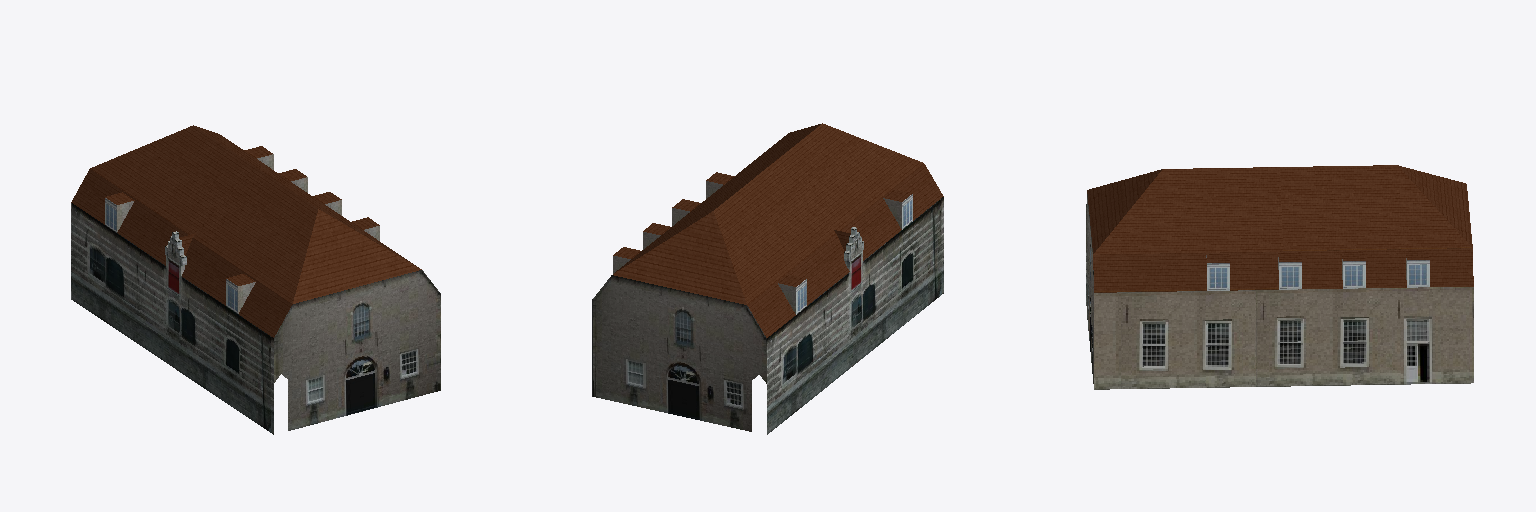
The picture shows the model from 3 angles: view 1: azimuth 30°, elevation 25°; view 2: azimuth 150°, elevation 25°; view 3: azimuth 270°, elevation 25°; orthographic projection.
Visible parts, largest first — view 1: polySurface3; view 2: polySurface3; view 3: polySurface3.
Part boxes in pixels (bbox=[...]): polySurface3: bbox=[71, 125, 440, 434]; polySurface3: bbox=[592, 123, 943, 434]; polySurface3: bbox=[1086, 165, 1473, 389].
Bounding box in the file's own units: 1254 × 1161 × 2292.
1 materials, 1 textured.